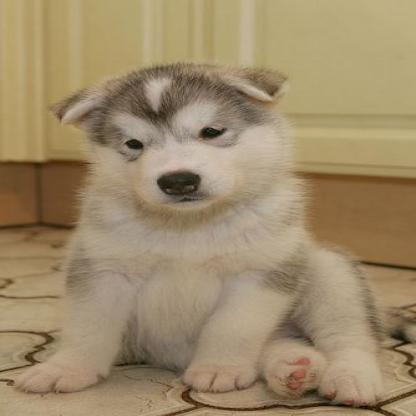malamute: (9, 60, 385, 413)
